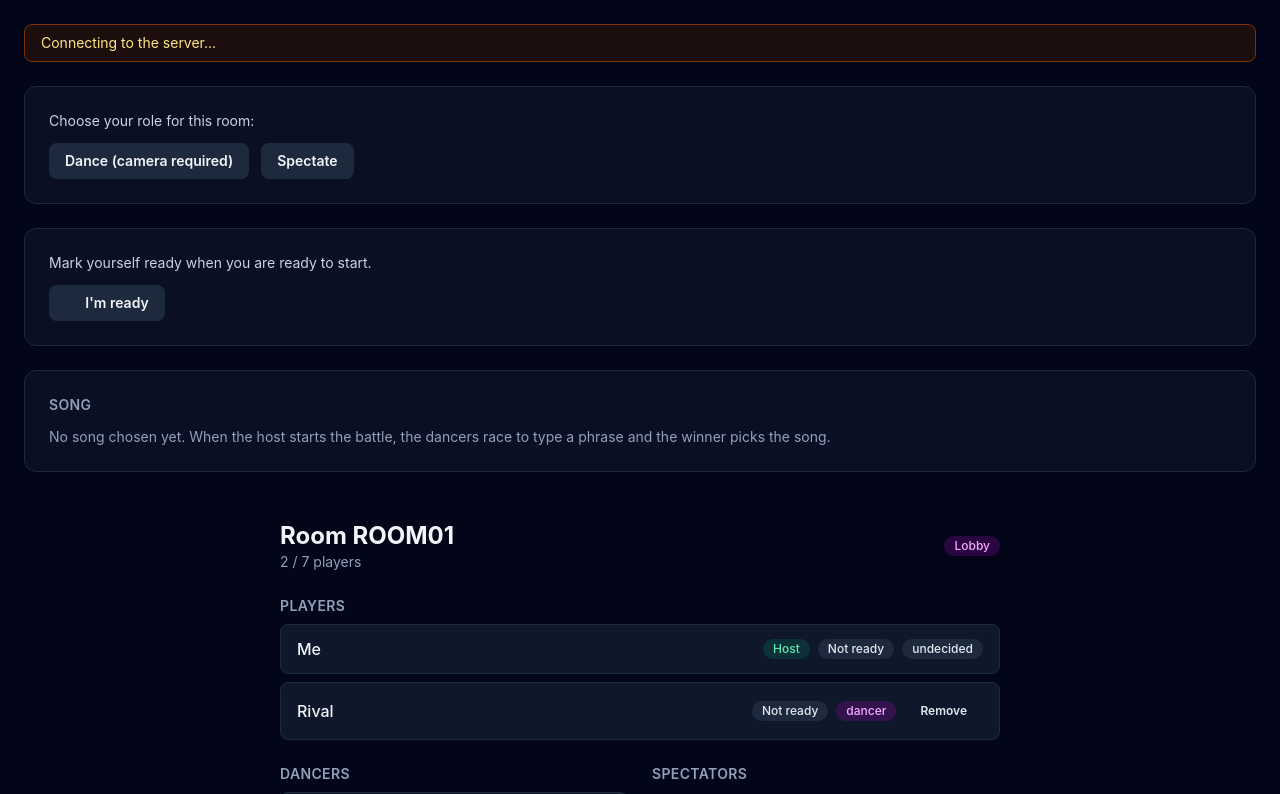
it: removing a player › can be cancelled
Step 1. Click the button with aria-label "Remove Rival" → (944, 711), box [904, 695, 983, 727]
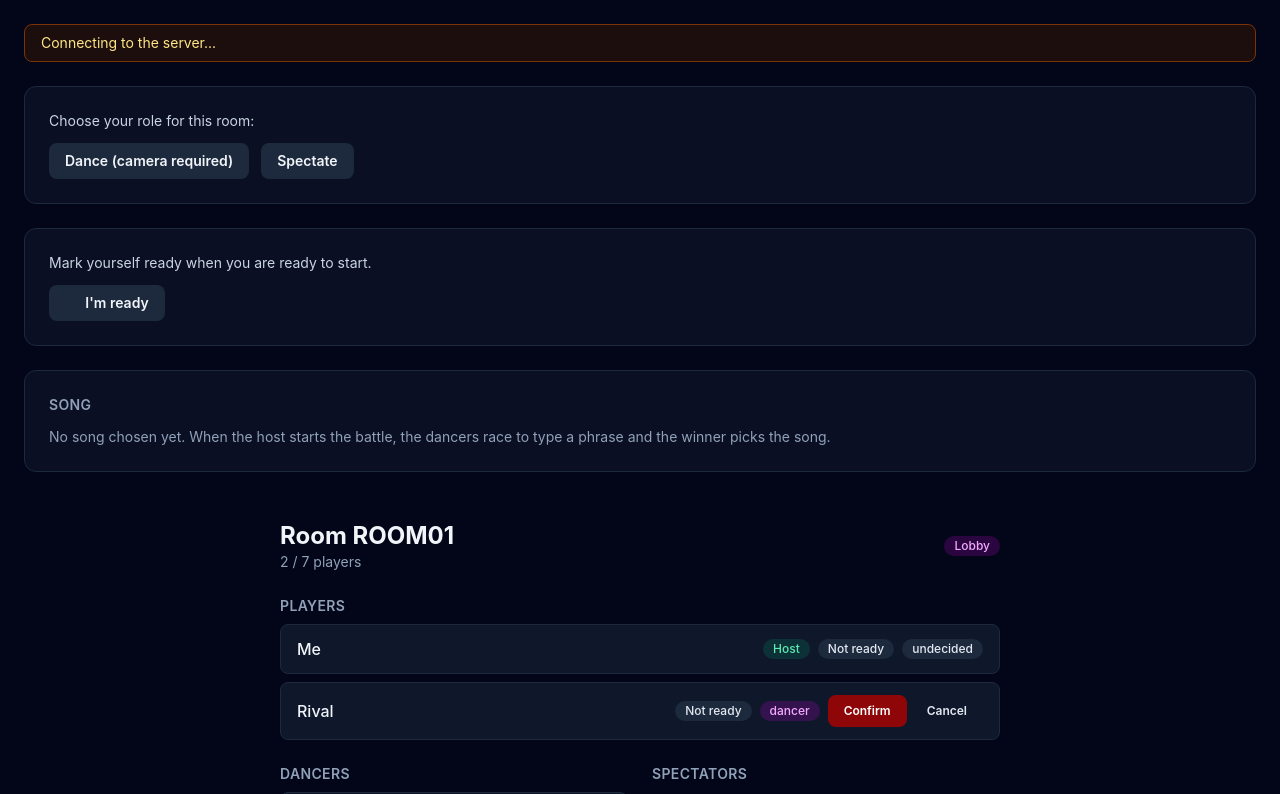
Step 2. Click the button "Cancel" → (947, 711), box [911, 695, 983, 727]
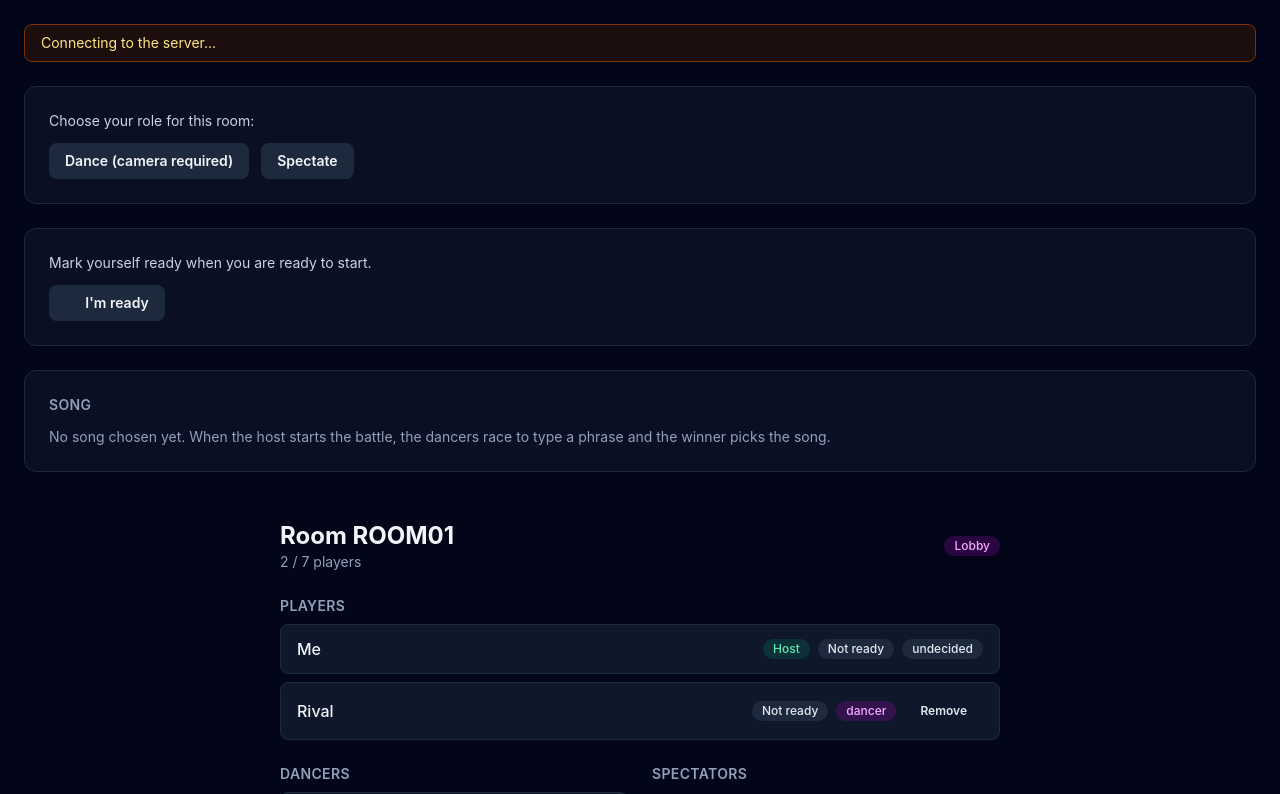
Check: the button with aria-label "Remove Rival" is shown, box [904, 695, 983, 727]
